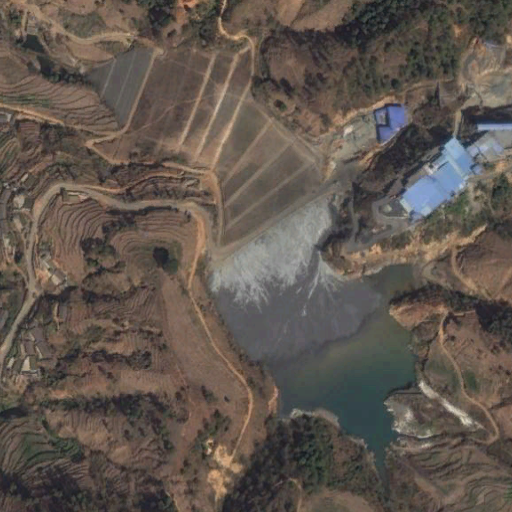tp: (86, 40, 424, 497)
